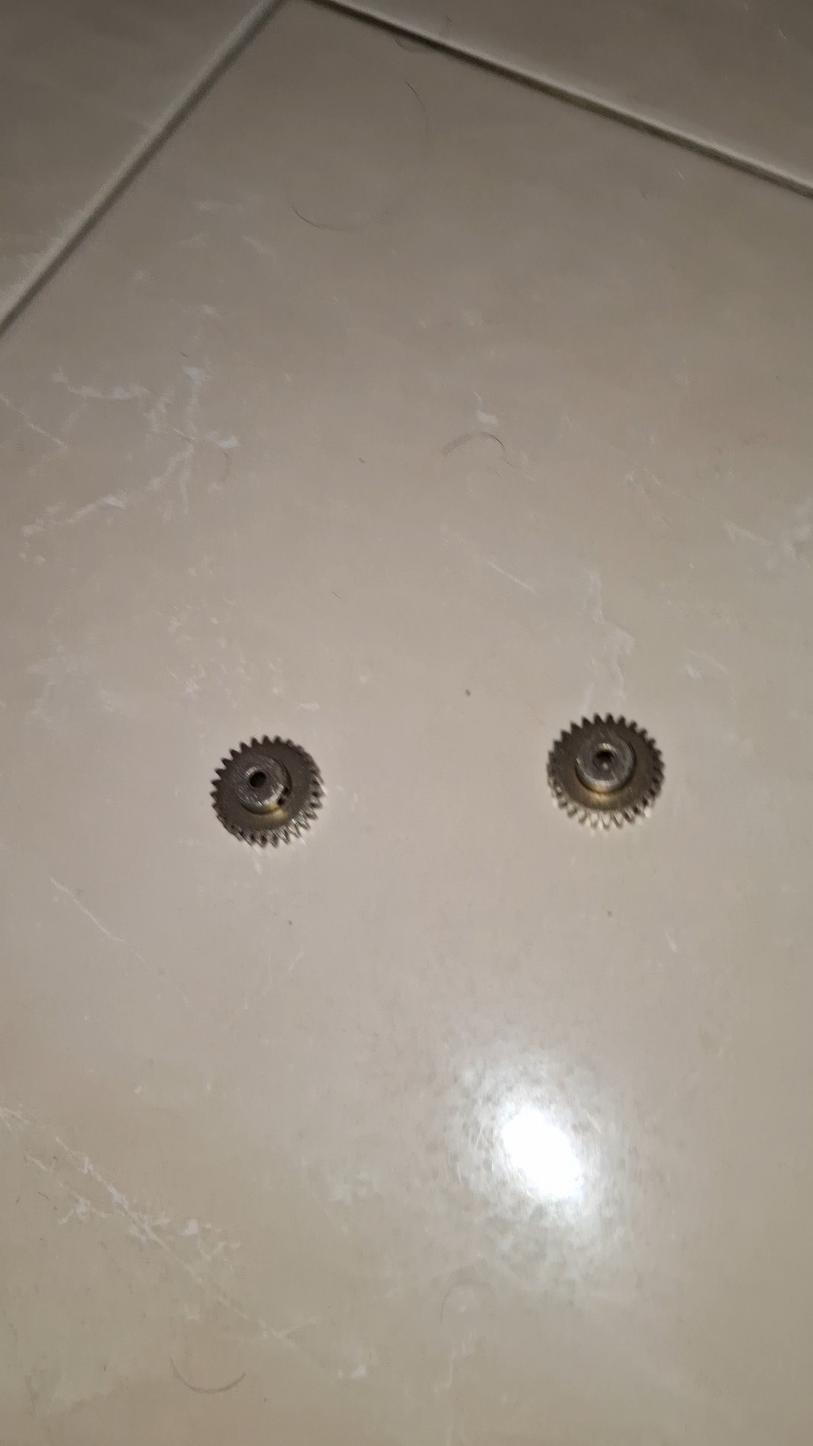spur gear: (547, 715, 663, 827), (212, 737, 322, 846)
